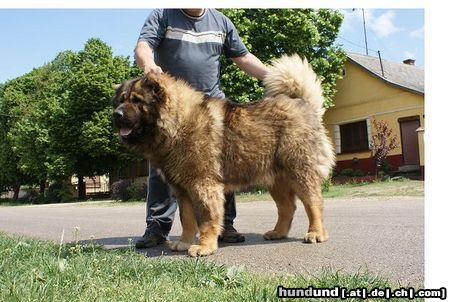cau_ovcharka: (109, 50, 334, 256)
person: (133, 8, 271, 248)
